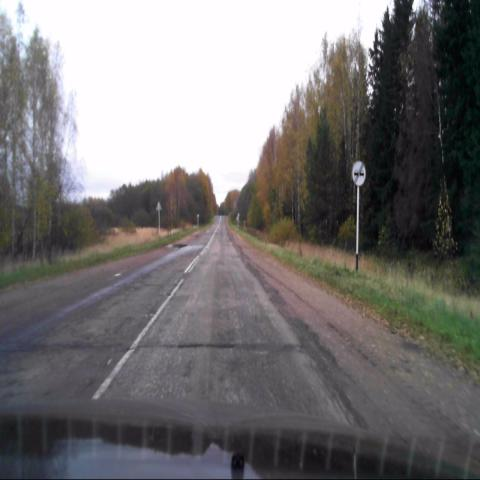3_21: (352, 161, 366, 187)
